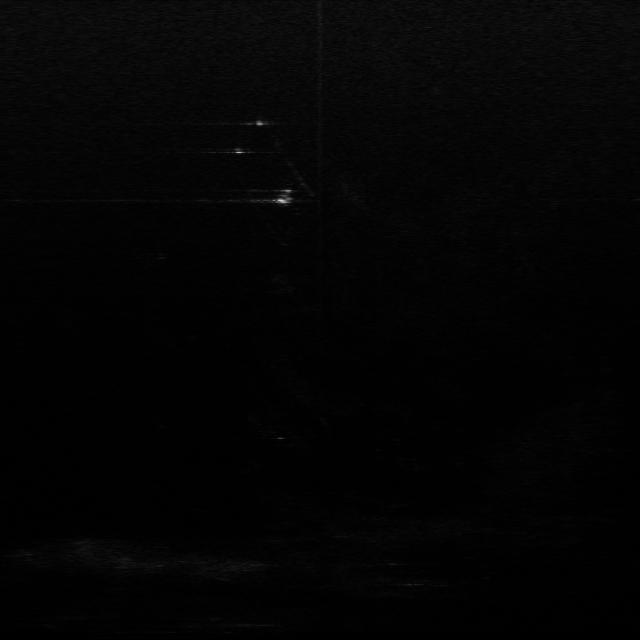rov: (273, 187, 296, 207)
